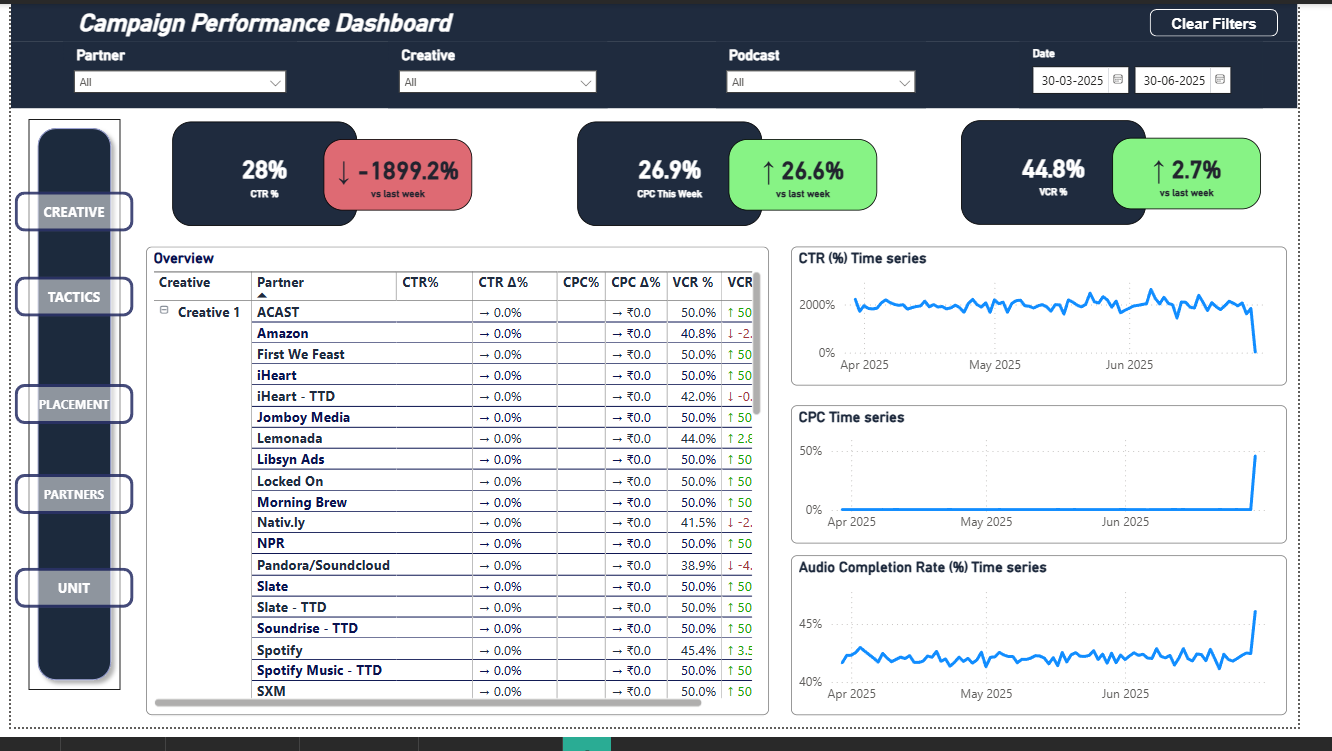

The dashboard page shown, as its layout file describes it:
{"tool":"powerbi","page":{"name":"CREATIVE","canvas":[1280,720],"ordinal":0},"visuals":[{"type":"pivotTable","title":"Overview","fields":{"Values":["Sheet1.CTR This Week","DateTable.CTR Change Display arrow","Sheet1.CPC This Week","DateTable.CPC Change Display arrow","Sheet1.Audio Completion Rate This Week","Sheet1.Audio Completion Rate Indicator"],"Rows":["Sheet1.Creative","Sheet1.Partner"]},"box":[134.5,241.5,620.2,466.6],"z":0},{"type":"shape","box":[17.5,115,91.2,567.5],"z":1000},{"type":"lineChart","title":"CPC Time series","fields":{"Y":["Sheet1.CPC"],"Category":["Sheet1.Date.Variation.Date Hierarchy.Month","Sheet1.Week of Year"]},"box":[776.7,399.3,494,137.2],"z":2000},{"type":"lineChart","title":"CTR (%) Time series","fields":{"Category":["Sheet1.Date.Variation.Date Hierarchy.Month","Sheet1.Week of Year"],"Y":["Sheet1.CTR (%)"]},"box":[776.7,241.5,494,138.6],"z":3000},{"type":"lineChart","title":"Audio Completion Rate (%) Time series","fields":{"Category":["Sheet1.Date.Variation.Date Hierarchy.Month","Sheet1.Week of Year"],"Y":["Sheet1.Audio Completion Rate (%)"]},"box":[776.7,548.9,494,159.2],"z":4000},{"type":"textbox","box":[0,0,1280,37.5],"z":5000},{"type":"textbox","box":[0,37.5,1280,66.2],"z":6000},{"type":"slicer","fields":{"Values":["Sheet1.Partner"]},"box":[52.1,37,231.9,65.9],"z":7000},{"type":"slicer","fields":{"Values":["Sheet1.Creative"]},"box":[376.2,37.5,217.5,66.2],"z":8000},{"type":"slicer","fields":{"Values":["Sheet1.Podcast"]},"box":[701.2,37.5,208.8,66.2],"z":9000},{"type":"slicer","fields":{"Values":["Sheet1.Date"]},"box":[1003.8,37.5,241.2,66.2],"z":10000},{"type":"actionButton","box":[1133.5,5.5,127.6,27.4],"z":11000},{"type":"actionButton","box":[4.1,186.6,118,39.8],"z":12000},{"type":"actionButton","box":[4.1,271.7,118,39.8],"z":13000},{"type":"actionButton","box":[4.1,378.7,118,39.8],"z":14000},{"type":"group","id":"g1","title":"Group 1","box":[945.5,115.3,299.1,104.3],"z":15000},{"type":"group","id":"g2","title":"Group 1","box":[564,116.6,299.1,104.3],"z":16000},{"type":"card","fields":{"Values":["Sheet1.Audio Completion Rate This Week"]},"box":[945.5,115.3,183.9,104.3],"z":17000,"group":"g1"},{"type":"group","id":"g3","title":"Group 1","box":[160.5,116.6,299.1,104.3],"z":17000},{"type":"card","fields":{"Values":["Sheet1.CTR This Week"]},"box":[160.5,116.6,183.9,104.3],"z":17000,"group":"g3"},{"type":"card","fields":{"Values":["Sheet1.CPC This Week"]},"box":[564,116.6,183.9,104.3],"z":17000,"group":"g2"},{"type":"card","fields":{"Values":["Sheet1.Audio Completion Rate Indicator"]},"box":[1096.4,133.1,148.2,71.4],"z":18000,"group":"g1"},{"type":"card","fields":{"Values":["DateTable.CTR Change Display arrow"]},"box":[311.4,134.4,148.2,71.4],"z":18000,"group":"g3"},{"type":"card","fields":{"Values":["DateTable.CPC Change Display arrow"]},"box":[714.9,134.4,148.2,71.4],"z":18000,"group":"g2"},{"type":"actionButton","box":[4.1,467.9,118,39.8],"z":18000},{"type":"actionButton","box":[4.1,561.2,118,39.8],"z":19000}]}

Visuals, with their boxes in screenshot pixels (x1, y1, x2, y2), scaled from the page's 1280x720 canvas onto the 1332x751 screenshot:
"Overview" pivotTable: 140:252:785:739
shape: 18:120:113:712
"CPC Time series" lineChart: 808:416:1322:560
"CTR (%) Time series" lineChart: 808:252:1322:396
"Audio Completion Rate (%) Time series" lineChart: 808:573:1322:739
textbox: 0:0:1331:39
textbox: 0:39:1331:108
slicer - Sheet1.Partner: 54:39:296:107
slicer - Sheet1.Creative: 391:39:618:108
slicer - Sheet1.Podcast: 730:39:947:108
slicer - Sheet1.Date: 1045:39:1296:108
actionButton: 1180:6:1312:34
actionButton: 4:195:127:236
actionButton: 4:283:127:325
actionButton: 4:395:127:437
"Group 1" group: 984:120:1295:229
"Group 1" group: 587:122:898:230
card - Sheet1.Audio Completion Rate This Week: 984:120:1175:229
"Group 1" group: 167:122:478:230
card - Sheet1.CTR This Week: 167:122:358:230
card - Sheet1.CPC This Week: 587:122:778:230
card - Sheet1.Audio Completion Rate Indicator: 1141:139:1295:213
card - DateTable.CTR Change Display arrow: 324:140:478:215
card - DateTable.CPC Change Display arrow: 744:140:898:215
actionButton: 4:488:127:530
actionButton: 4:585:127:627
